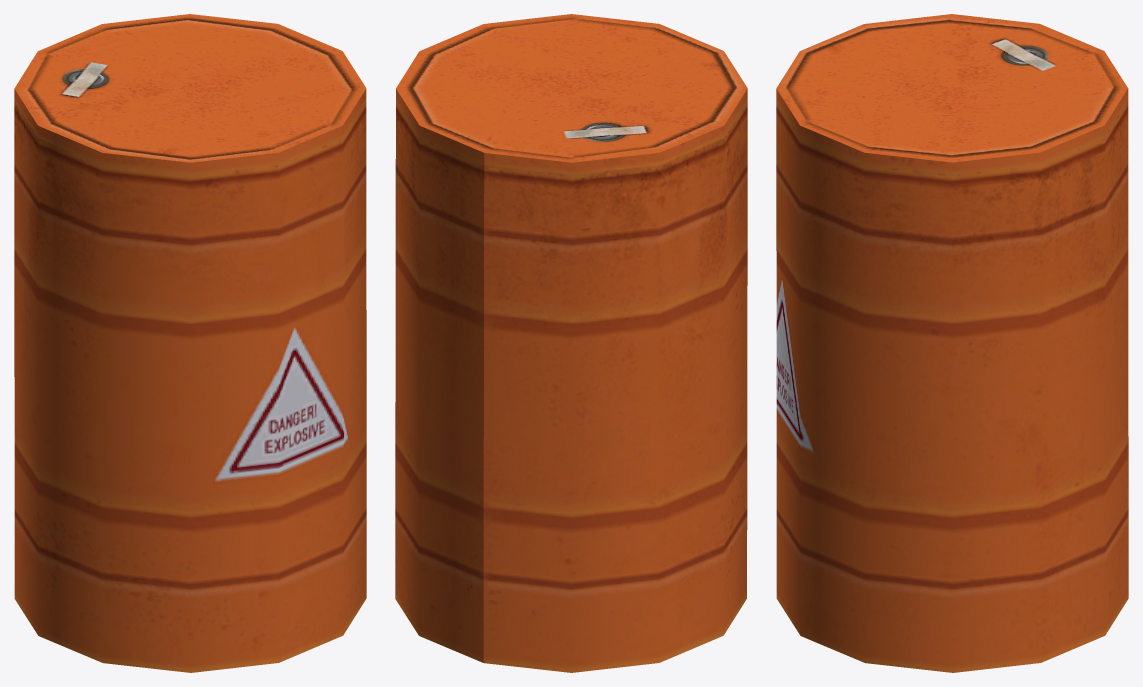
File: barrel.fbx
The picture shows the model from 3 angles, left to right: view 1: azimuth 30°, elevation 25°; view 2: azimuth 150°, elevation 25°; view 3: azimuth 270°, elevation 25°; orthographic projection.
Visible parts, largest first — view 1: DYNAMIC_barrel; view 2: DYNAMIC_barrel; view 3: DYNAMIC_barrel.
Boxes of the visible parts, x1,y1,x2,y2 form: DYNAMIC_barrel: (14,14,366,672); DYNAMIC_barrel: (395,14,747,672); DYNAMIC_barrel: (776,14,1128,672).
Bounding box in the file's own units: 75.85 × 75.84 × 121.
Materials: 1 (1 with a texture image).
